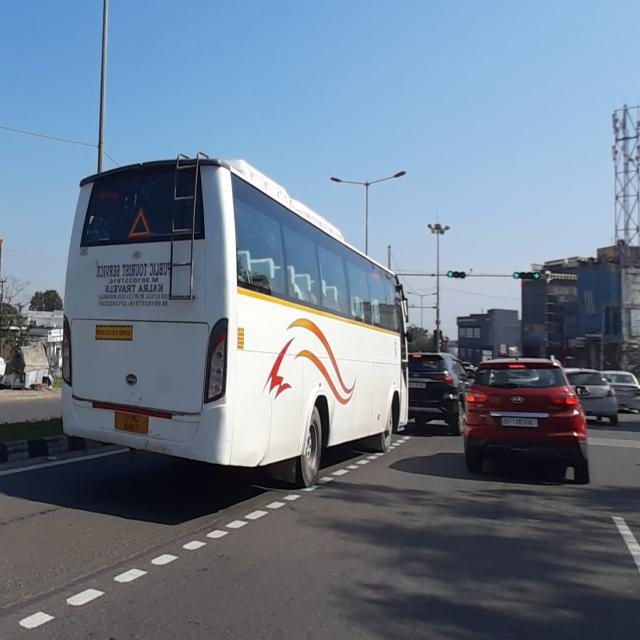bus: (60, 155, 410, 488)
car: (462, 358, 591, 486), (409, 352, 468, 434)
